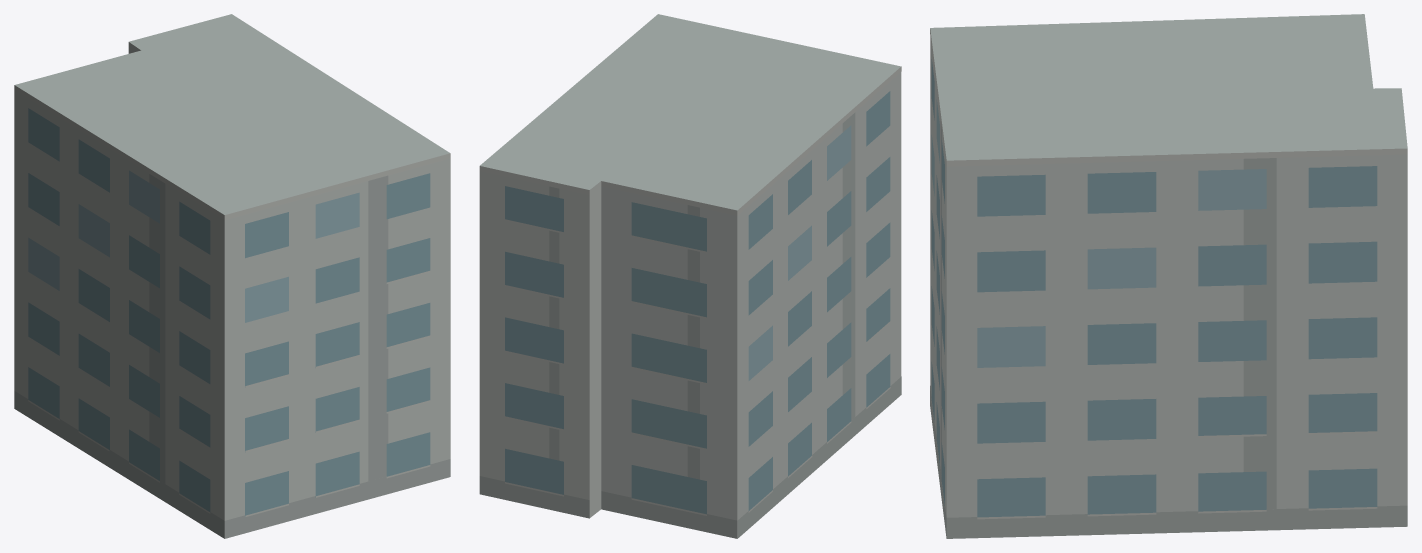
File: survey-upis-32601850.glb
3 renders of one model, left to right at view 1: azimuth 30°, elevation 25°; view 2: azimuth 150°, elevation 25°; view 3: azimuth 270°, elevation 25°, orthographic. The views are drawn at different scales.
Parts seen in each view (by area): view 1: survey-upis-32601850.tmp; view 2: survey-upis-32601850.tmp; view 3: survey-upis-32601850.tmp.
Boxes of the visible parts, box(x1,y1,x2,y2) form: survey-upis-32601850.tmp: box(14, 14, 450, 538); survey-upis-32601850.tmp: box(479, 14, 901, 538); survey-upis-32601850.tmp: box(930, 14, 1407, 538).
Size of the model in its own units: 12.69 by 15.25 by 17.46.
